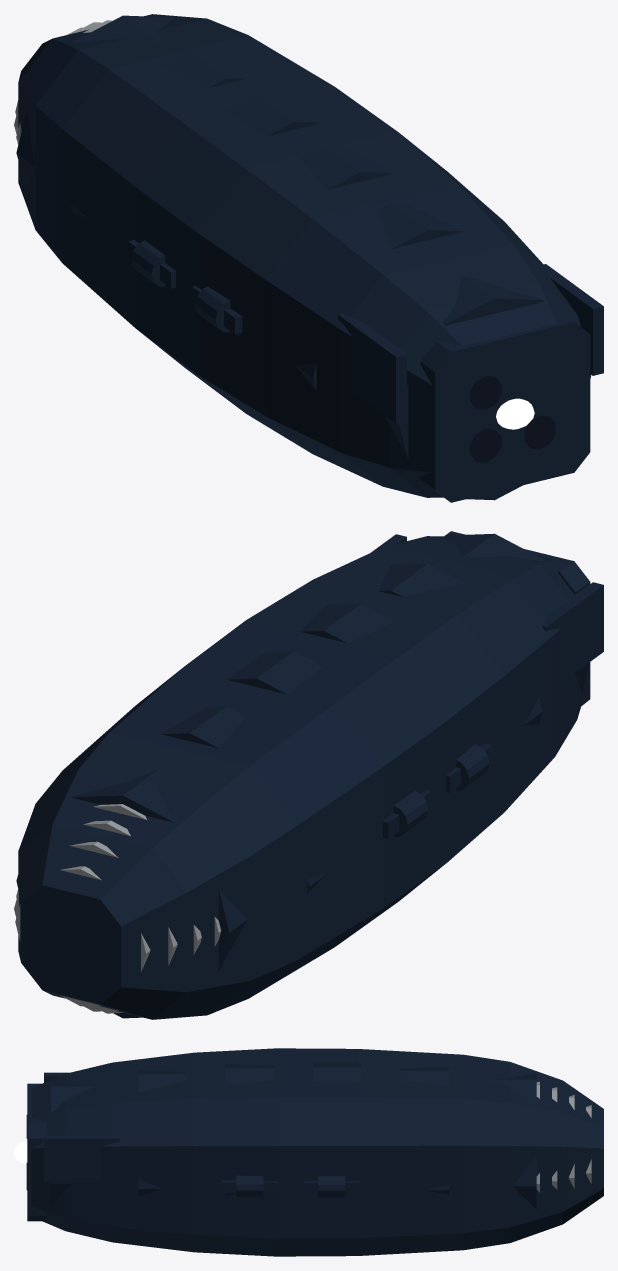
3 views of the same model, one above another, from view 1: azimuth 30°, elevation 25°; view 2: azimuth 150°, elevation 25°; view 3: azimuth 270°, elevation 25° (orthographic). The views are drawn at different scales.
Visible parts, largest first — view 1: RIMWARD_HULL, RIMWARD_ENGINE_GLOW; view 2: RIMWARD_HULL; view 3: RIMWARD_HULL.
Part boxes in pixels (x1=…): RIMWARD_HULL: x1=14, y1=14, x2=603, y2=502; RIMWARD_ENGINE_GLOW: x1=496, y1=398, x2=534, y2=429; RIMWARD_HULL: x1=14, y1=531, x2=603, y2=1019; RIMWARD_HULL: x1=26, y1=1048, x2=603, y2=1256.
Size of the model in its own units: 6.06 by 5.45 by 17.14.
